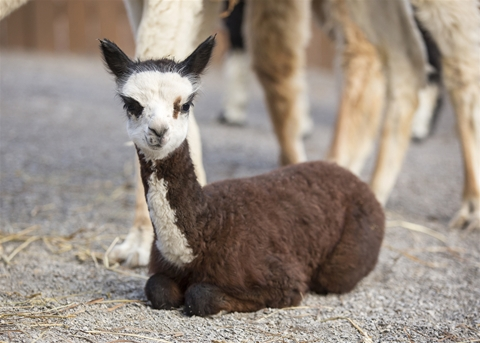alpaca: (96, 36, 387, 318)
